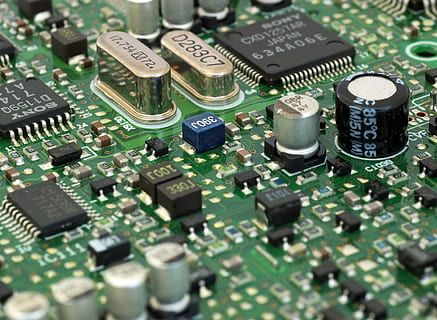capacitor: (328, 62, 421, 175)
